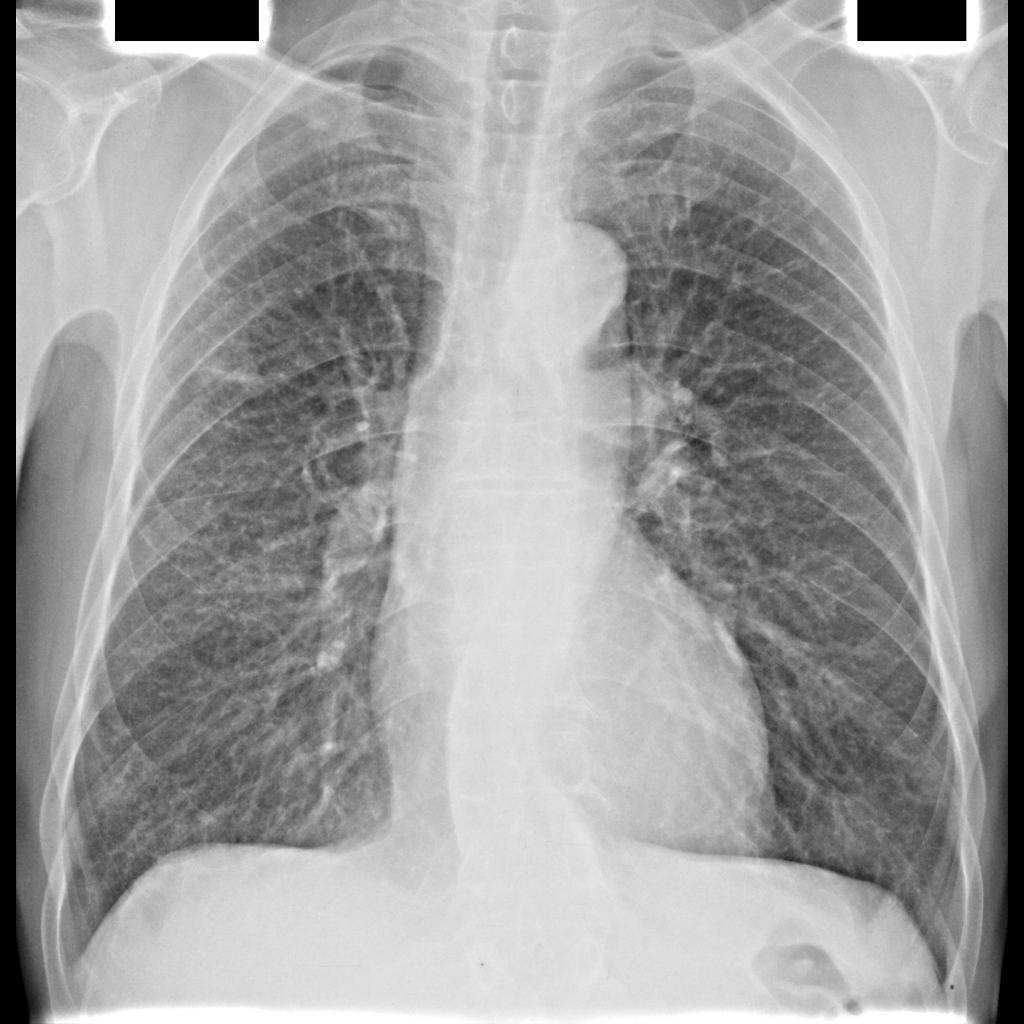Nodule: (220, 344, 282, 406)
